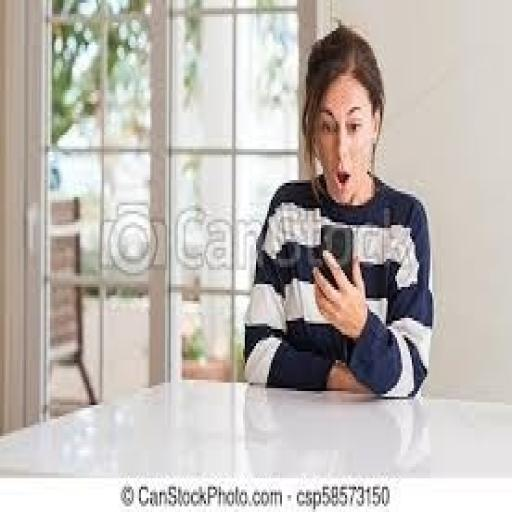texting: (241, 22, 434, 400)
